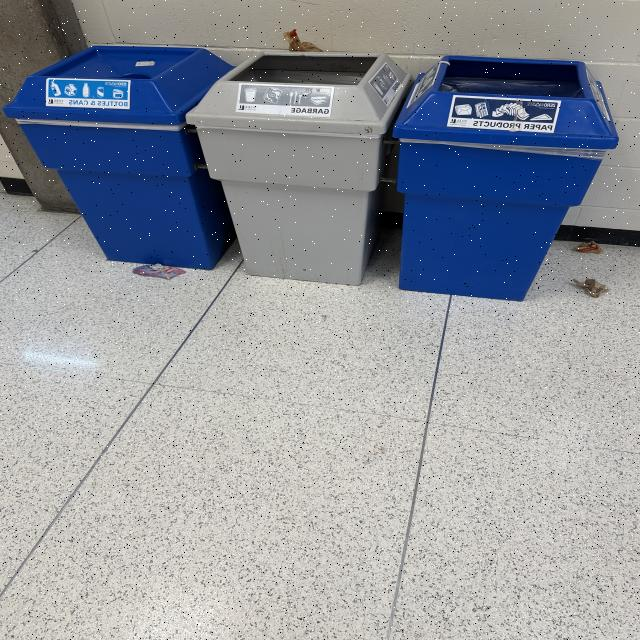Dustbin: (5, 43, 620, 302)
